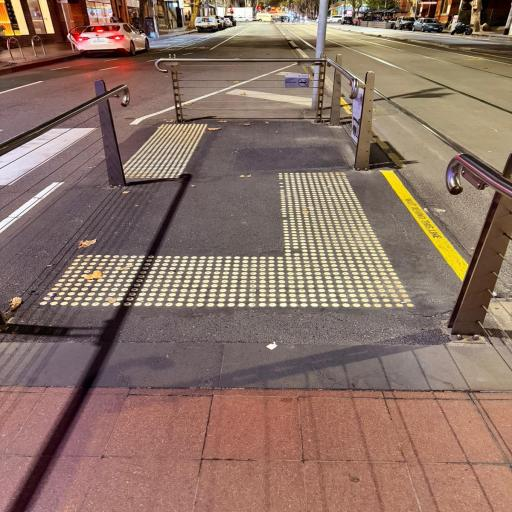handrail: (6, 83, 132, 315), (153, 54, 375, 164)
platform_edge: (373, 167, 472, 305)
ramp: (6, 118, 508, 502)
tgsi: (42, 170, 414, 306), (119, 121, 210, 182)
